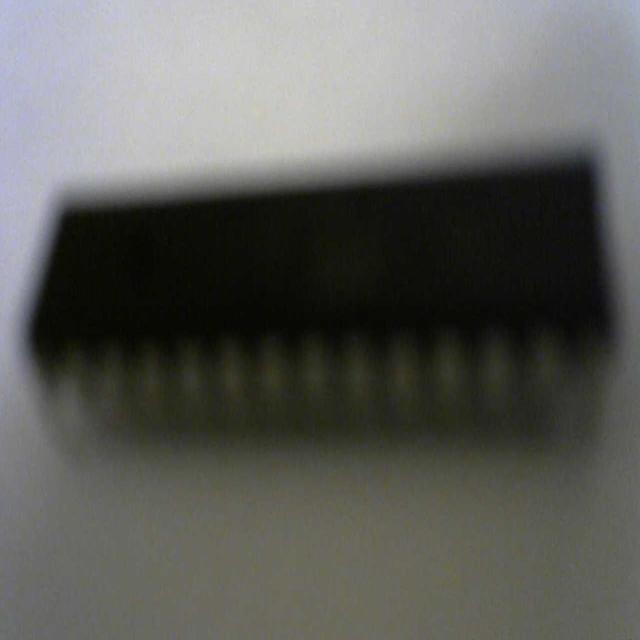atmega: (24, 146, 616, 450)
